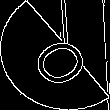O_NE: (17, 22, 93, 88)
